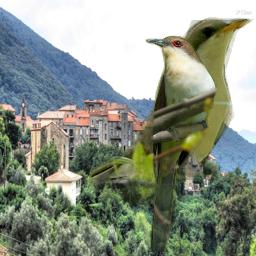Cuckoo: (89, 13, 254, 207), (145, 35, 219, 252)
